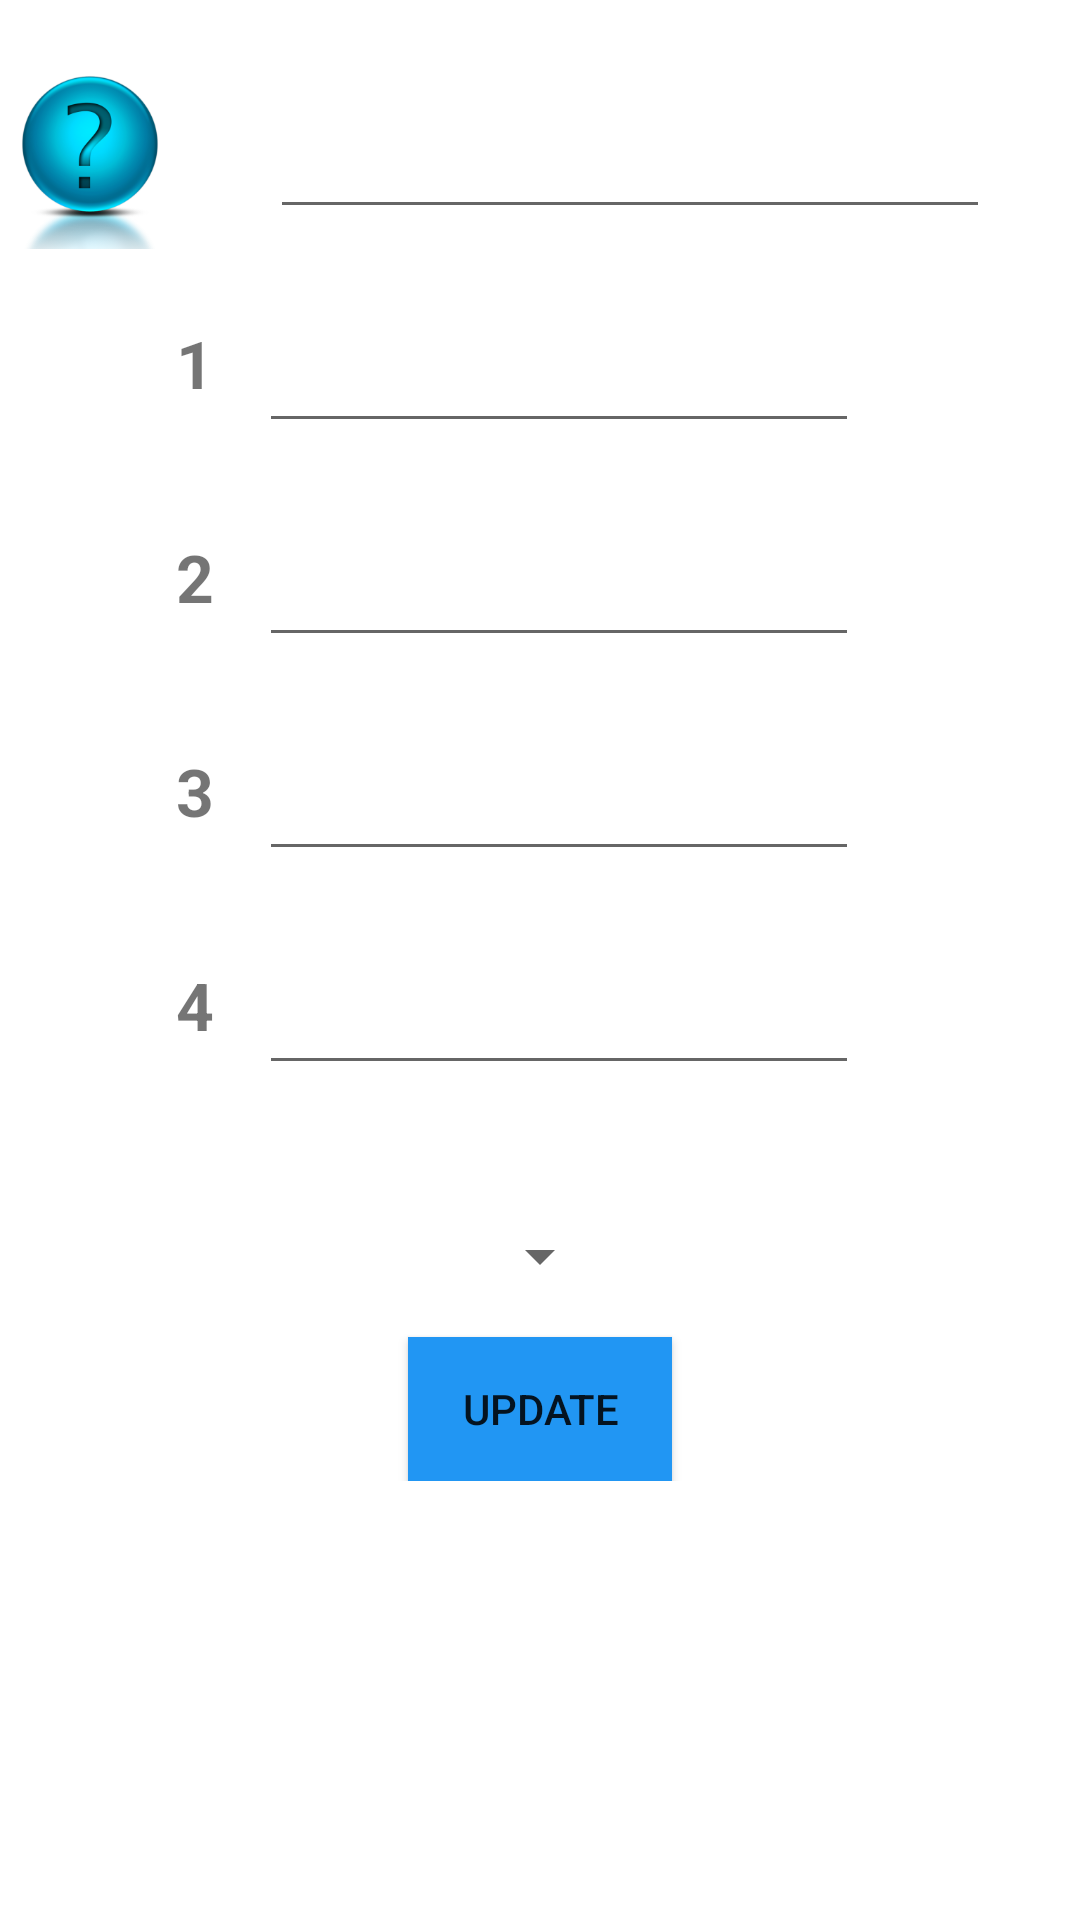

Icon bounding boxes for this 1080 x 1920 phone screenshot, format (x1, y1, x2, y2):
questionicon: (22, 76, 158, 249)
